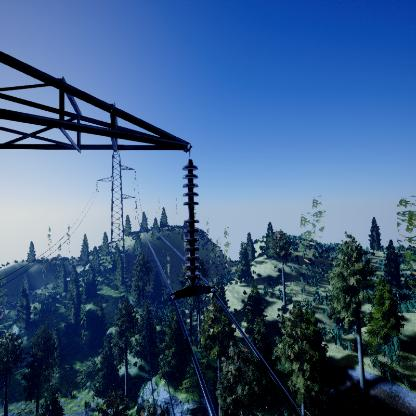insulator: (180, 160, 204, 280)
